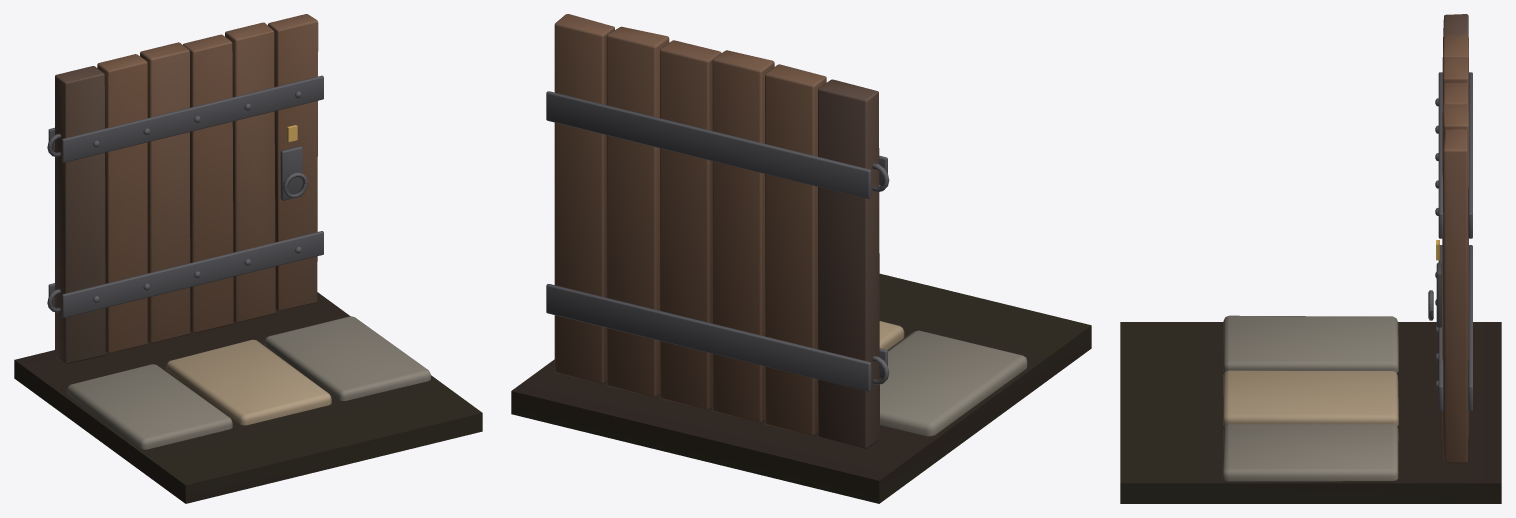
Rendered from kit_door.glb.
The picture shows the model from 3 angles, left to right: view 1: azimuth 30°, elevation 25°; view 2: azimuth 150°, elevation 25°; view 3: azimuth 270°, elevation 25°; orthographic projection. The views are drawn at different scales.
Visible parts, largest first — view 1: leaf, base; view 2: leaf, base; view 3: base, leaf.
Boxes of the visible parts, bbox=[...] form: leaf: bbox=[47, 14, 323, 363]; base: bbox=[14, 292, 482, 503]; leaf: bbox=[546, 14, 889, 448]; base: bbox=[511, 273, 1091, 503]; base: bbox=[1120, 315, 1501, 503]; leaf: bbox=[1428, 14, 1472, 463].
Size of the model in its own units: 1 by 1 by 1.
